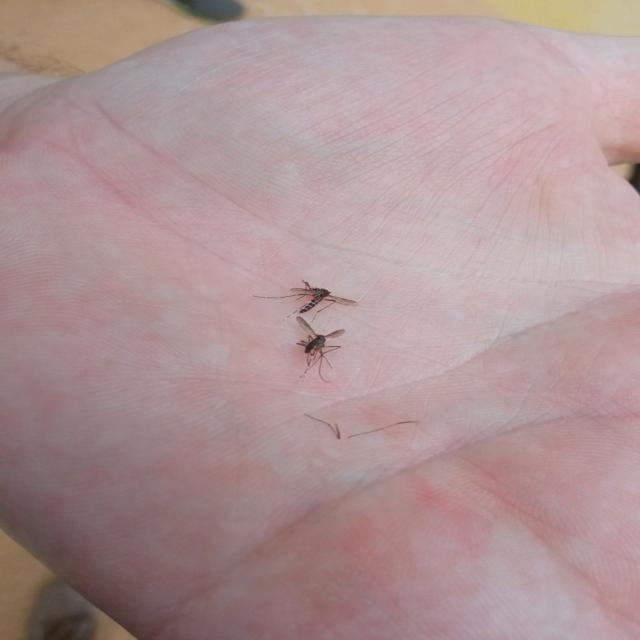albopictus: (254, 271, 362, 384)
